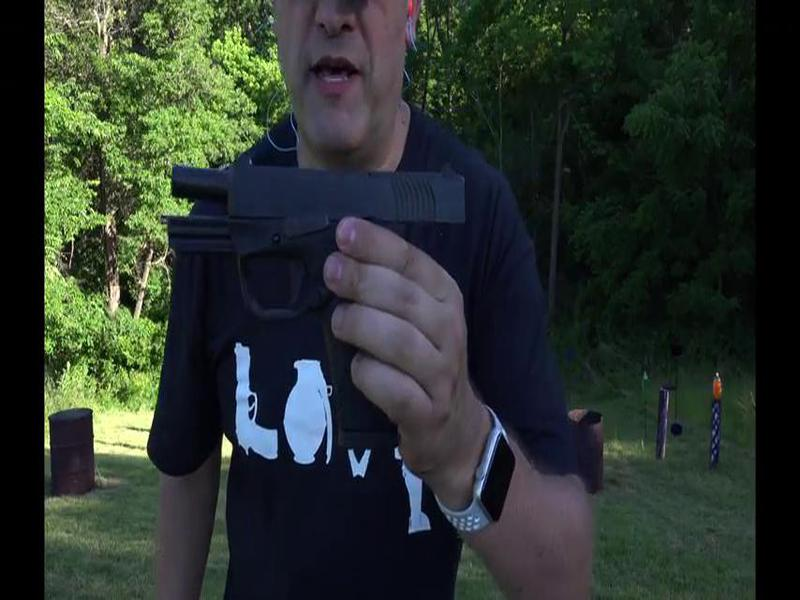Pistola: (158, 145, 482, 452)
